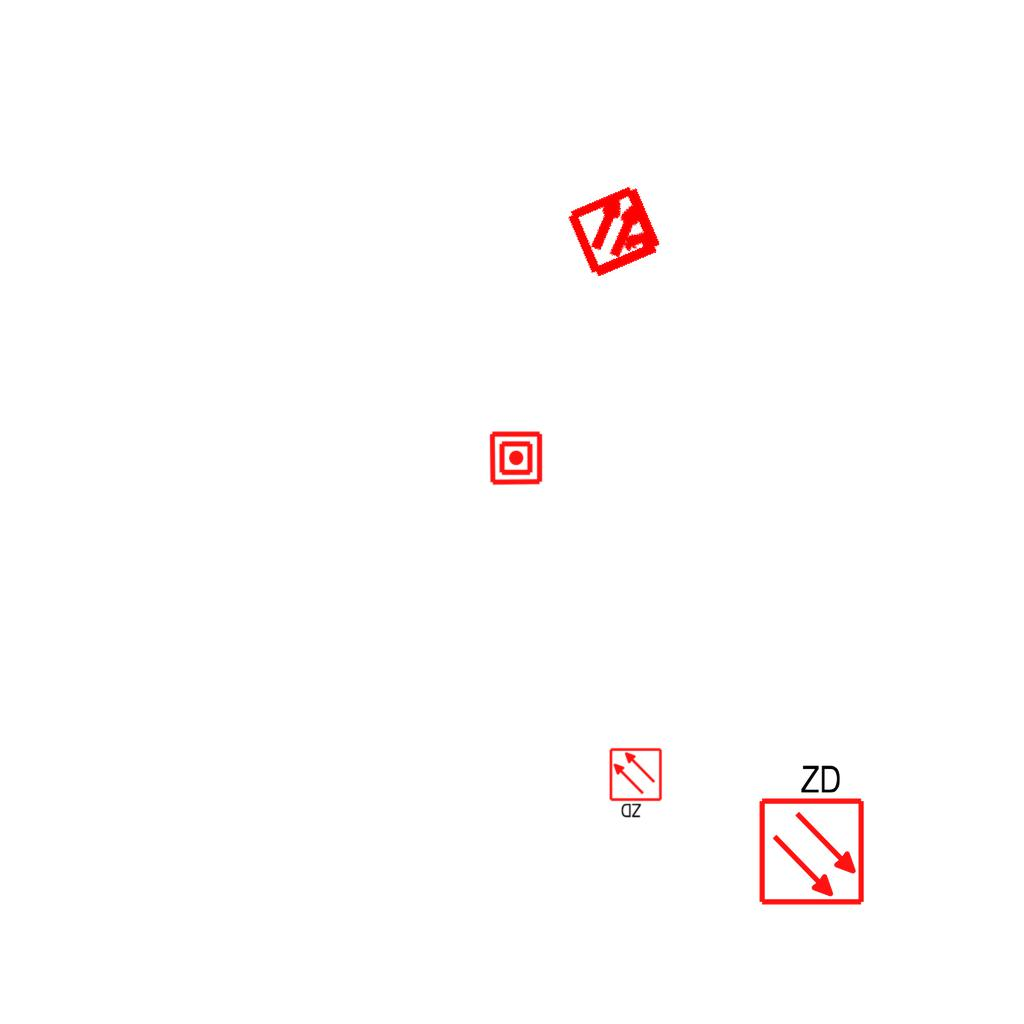NAM-Nichtautomatischer_Melder: (488, 430, 544, 486)
OT_Multisensormelder_(Kombination_RMO_WMD): (542, 156, 691, 305)
ZD_Melder_in_Zwischendecke_mit_Revisionsoeffnung_mind_40_x_40_cm: (753, 758, 867, 907), (608, 747, 665, 821)
